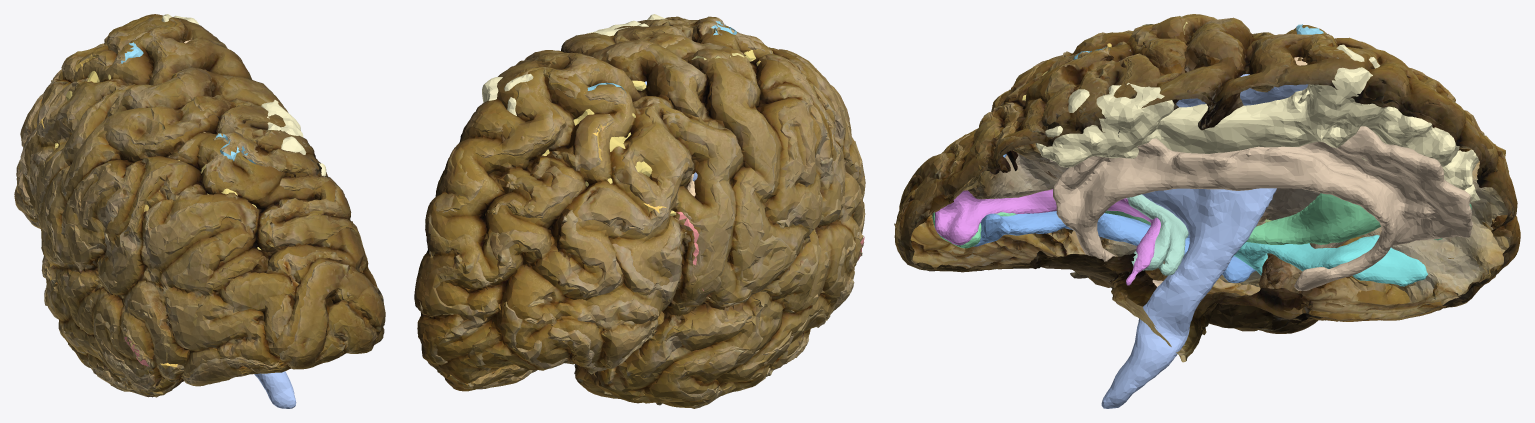
Rendered from bradipho_spc19.glb.
3 views of the same model, side by side, from view 1: azimuth 30°, elevation 25°; view 2: azimuth 150°, elevation 25°; view 3: azimuth 270°, elevation 25° (orthographic). The views are drawn at different scales.
Visible parts, largest first — view 1: Approach: Fibre dissection (BraDiPho specimen 19) — stage 1, Approach: Fibre dissection (BraDiPho specimen 19) — stage 2, Approach: Fibre dissection (BraDiPho specimen 19) — stage 3, Approach: Fibre dissection (BraDiPho specimen 19) — stage 6, Approach: Fibre dissection (BraDiPho specimen 19) — stage 4, Approach: Fibre dissection (BraDiPho specimen 19) — stage 5, Approach: Fibre dissection (BraDiPho specimen 19) — stage 10, Approach: Fibre dissection (BraDiPho specimen 19) — stage 11, Superior longitudinal fasciculus I (BraDiPho specimen 19), Approach: Fibre dissection (BraDiPho specimen 19) — stage 7, Approach: Fibre dissection (BraDiPho specimen 19) — stage 9, Corticospinal tract (BraDiPho specimen 19) (+2 smaller); view 2: Approach: Fibre dissection (BraDiPho specimen 19) — stage 1, Approach: Fibre dissection (BraDiPho specimen 19) — stage 6, Approach: Fibre dissection (BraDiPho specimen 19) — stage 2, Approach: Fibre dissection (BraDiPho specimen 19) — stage 3, Approach: Fibre dissection (BraDiPho specimen 19) — stage 4, Approach: Fibre dissection (BraDiPho specimen 19) — stage 5, Approach: Fibre dissection (BraDiPho specimen 19) — stage 10, Approach: Fibre dissection (BraDiPho specimen 19) — stage 7, Approach: Fibre dissection (BraDiPho specimen 19) — stage 8, Approach: Fibre dissection (BraDiPho specimen 19) — stage 11, Superior longitudinal fasciculus I (BraDiPho specimen 19), Approach: Fibre dissection (BraDiPho specimen 19) — stage 9 (+2 smaller); view 3: Cingulum (BraDiPho specimen 19), Approach: Fibre dissection (BraDiPho specimen 19) — stage 1, Superior longitudinal fasciculus I (BraDiPho specimen 19), Corticospinal tract (BraDiPho specimen 19), Approach: Fibre dissection (BraDiPho specimen 19) — stage 3, Approach: Fibre dissection (BraDiPho specimen 19) — stage 10, Approach: Fibre dissection (BraDiPho specimen 19) — stage 6, Approach: Fibre dissection (BraDiPho specimen 19) — stage 2, Approach: Fibre dissection (BraDiPho specimen 19) — stage 12, Inferior fronto-occipital fasciculus (BraDiPho specimen 19), Approach: Fibre dissection (BraDiPho specimen 19) — stage 4, Optic radiation (BraDiPho specimen 19) (+8 smaller).
Boxes of the visible parts, x1,y1,x2,y2 form: Approach: Fibre dissection (BraDiPho specimen 19) — stage 1: [22, 14, 377, 394]; Approach: Fibre dissection (BraDiPho specimen 19) — stage 2: [24, 16, 385, 392]; Approach: Fibre dissection (BraDiPho specimen 19) — stage 3: [24, 19, 383, 395]; Approach: Fibre dissection (BraDiPho specimen 19) — stage 6: [14, 14, 376, 394]; Approach: Fibre dissection (BraDiPho specimen 19) — stage 4: [25, 38, 362, 392]; Approach: Fibre dissection (BraDiPho specimen 19) — stage 5: [28, 20, 383, 390]; Approach: Fibre dissection (BraDiPho specimen 19) — stage 10: [88, 17, 378, 397]; Approach: Fibre dissection (BraDiPho specimen 19) — stage 11: [110, 26, 364, 397]; Superior longitudinal fasciculus I (BraDiPho specimen 19): [161, 14, 326, 176]; Approach: Fibre dissection (BraDiPho specimen 19) — stage 7: [16, 26, 351, 390]; Approach: Fibre dissection (BraDiPho specimen 19) — stage 9: [87, 18, 379, 394]; Corticospinal tract (BraDiPho specimen 19): [254, 371, 296, 408]; Approach: Fibre dissection (BraDiPho specimen 19) — stage 1: [414, 23, 864, 407]; Approach: Fibre dissection (BraDiPho specimen 19) — stage 6: [424, 16, 862, 408]; Approach: Fibre dissection (BraDiPho specimen 19) — stage 2: [422, 23, 865, 405]; Approach: Fibre dissection (BraDiPho specimen 19) — stage 3: [425, 21, 865, 405]; Approach: Fibre dissection (BraDiPho specimen 19) — stage 4: [503, 23, 864, 395]; Approach: Fibre dissection (BraDiPho specimen 19) — stage 5: [453, 17, 863, 405]; Approach: Fibre dissection (BraDiPho specimen 19) — stage 10: [419, 18, 852, 364]; Approach: Fibre dissection (BraDiPho specimen 19) — stage 7: [429, 22, 862, 388]; Approach: Fibre dissection (BraDiPho specimen 19) — stage 8: [427, 18, 852, 388]; Approach: Fibre dissection (BraDiPho specimen 19) — stage 11: [435, 16, 840, 362]; Superior longitudinal fasciculus I (BraDiPho specimen 19): [482, 14, 667, 115]; Approach: Fibre dissection (BraDiPho specimen 19) — stage 9: [419, 20, 853, 382]; Cingulum (BraDiPho specimen 19): [1053, 126, 1472, 290]; Approach: Fibre dissection (BraDiPho specimen 19) — stage 1: [895, 22, 1519, 362]; Superior longitudinal fasciculus I (BraDiPho specimen 19): [1035, 44, 1480, 203]; Corticospinal tract (BraDiPho specimen 19): [1101, 74, 1308, 408]; Approach: Fibre dissection (BraDiPho specimen 19) — stage 3: [897, 14, 1513, 355]; Approach: Fibre dissection (BraDiPho specimen 19) — stage 10: [898, 28, 1516, 345]; Approach: Fibre dissection (BraDiPho specimen 19) — stage 6: [894, 25, 1520, 318]; Approach: Fibre dissection (BraDiPho specimen 19) — stage 2: [894, 18, 1520, 353]; Approach: Fibre dissection (BraDiPho specimen 19) — stage 12: [910, 29, 1510, 315]; Inferior fronto-occipital fasciculus (BraDiPho specimen 19): [932, 193, 1471, 248]; Approach: Fibre dissection (BraDiPho specimen 19) — stage 4: [901, 16, 1509, 319]; Optic radiation (BraDiPho specimen 19): [934, 172, 1160, 285].
Bounding box in the file's own units: 70.28 × 102 × 164.
41 materials, 12 textured.
